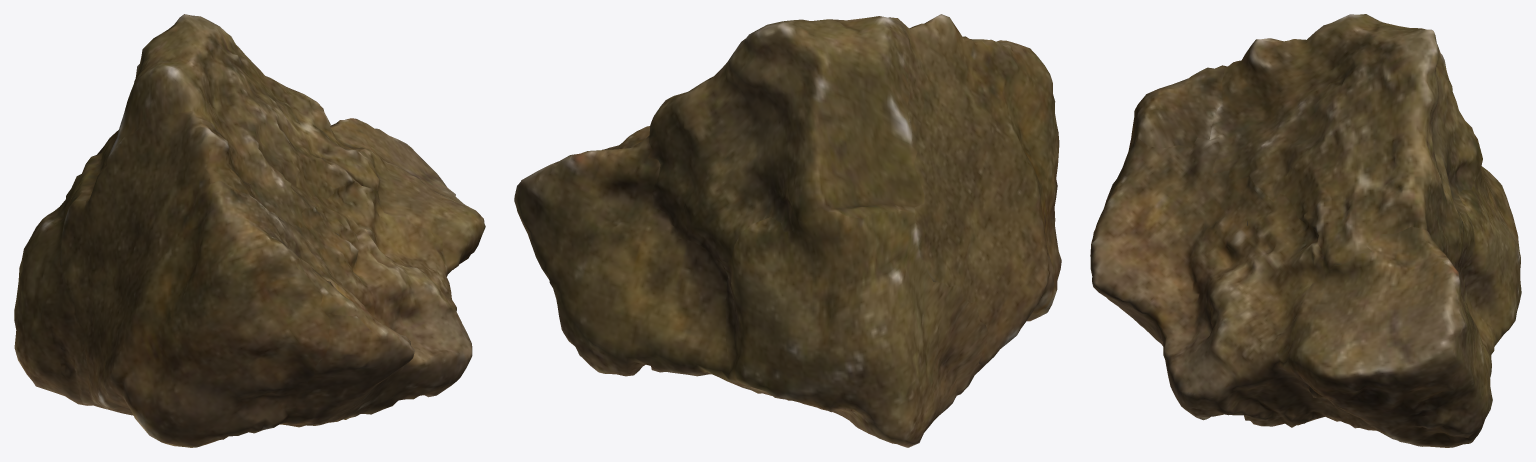
The model's file is rock_04.obj.
The picture shows the model from 3 angles, left to right: view 1: azimuth 30°, elevation 25°; view 2: azimuth 150°, elevation 25°; view 3: azimuth 270°, elevation 25°; orthographic projection. The views are drawn at different scales.
Visible parts, largest first — view 1: rock_moss_set_01_rock04; view 2: rock_moss_set_01_rock04; view 3: rock_moss_set_01_rock04.
Part boxes in pixels (bbox=[...]): rock_moss_set_01_rock04: bbox=[14, 14, 485, 447]; rock_moss_set_01_rock04: bbox=[514, 14, 1061, 447]; rock_moss_set_01_rock04: bbox=[1090, 14, 1521, 447].
Bounding box in the file's own units: 2.13 × 1.77 × 1.96.
Materials: 1 (1 with a texture image).
